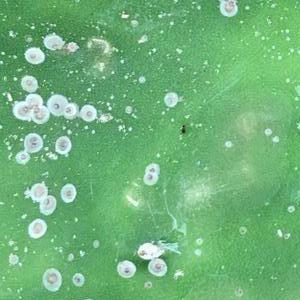Femea: (22, 97, 41, 117), (54, 138, 69, 154), (22, 50, 42, 62), (22, 135, 39, 149), (48, 97, 62, 113), (20, 76, 34, 92), (149, 259, 165, 273), (117, 263, 132, 277), (41, 195, 54, 210), (61, 185, 73, 200), (163, 94, 177, 106), (222, 1, 237, 12), (81, 107, 94, 119), (62, 106, 74, 117), (143, 172, 155, 183), (146, 164, 157, 176)
Macho: (5, 90, 12, 102)
